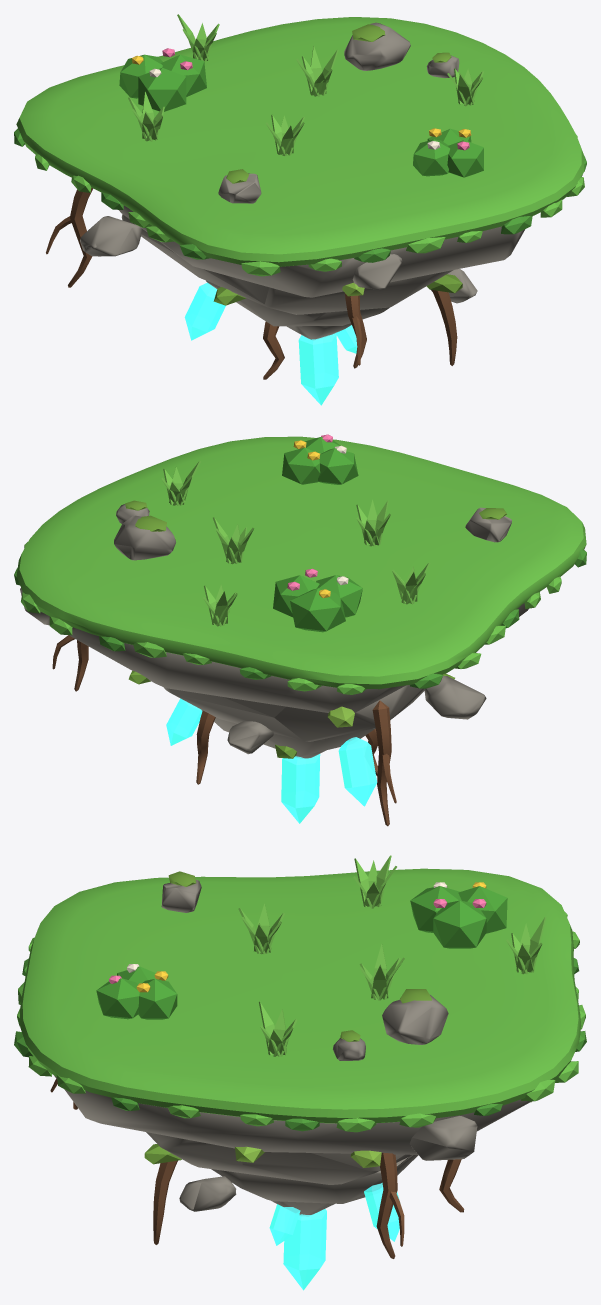
The model's file is prop_sky_island.glb.
3 views of the same model, one above another, from view 1: azimuth 30°, elevation 25°; view 2: azimuth 150°, elevation 25°; view 3: azimuth 270°, elevation 25° (orthographic). The views are drawn at different scales.
Visible parts, largest first — view 1: SkyIsland; view 2: SkyIsland; view 3: SkyIsland.
Boxes of the visible parts, x1,y1,x2,y2 form: SkyIsland: (14,14,586,405); SkyIsland: (14,434,586,826); SkyIsland: (14,855,586,1290).
Size of what is drawn, in the model's own units: 8.05 by 5.37 by 7.85.
